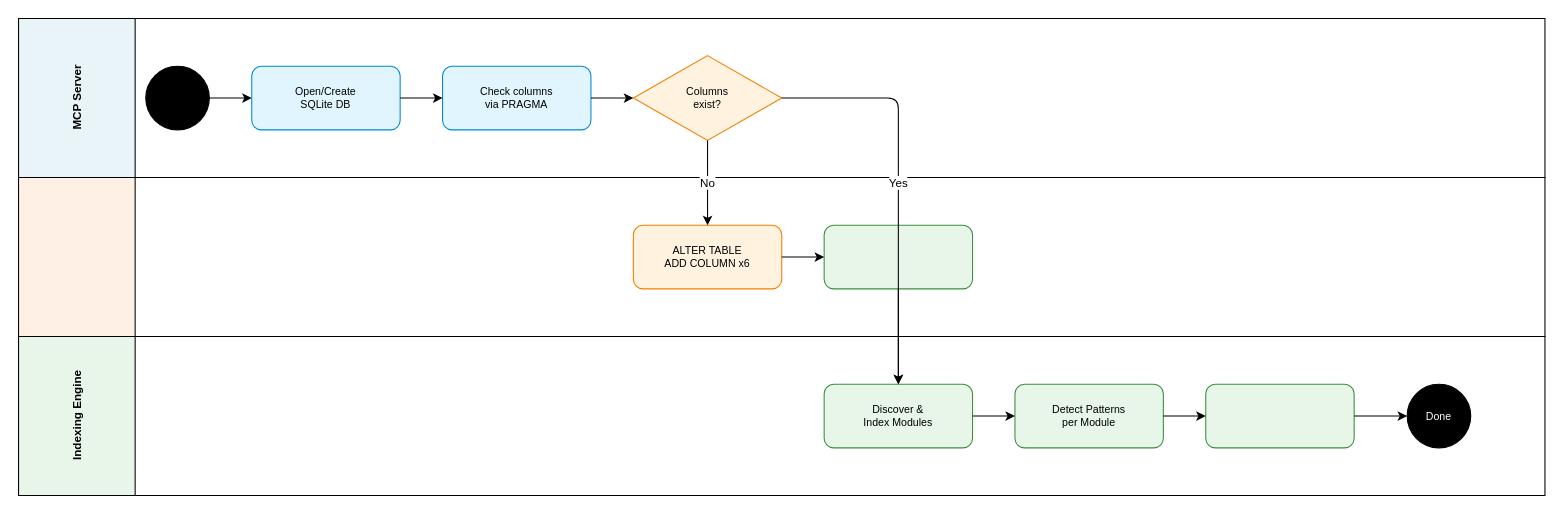
Image size: 1563x514. Some labels were removed from this diagram. Here are the shapes that lost their labels. From the top down, the box of each, then its label:
(145, 65, 209, 130): Server Startup
(17, 176, 1545, 337): Schema Migration
(823, 224, 973, 289): Log migration success
(1205, 383, 1354, 448): Write patterns to DB columns
